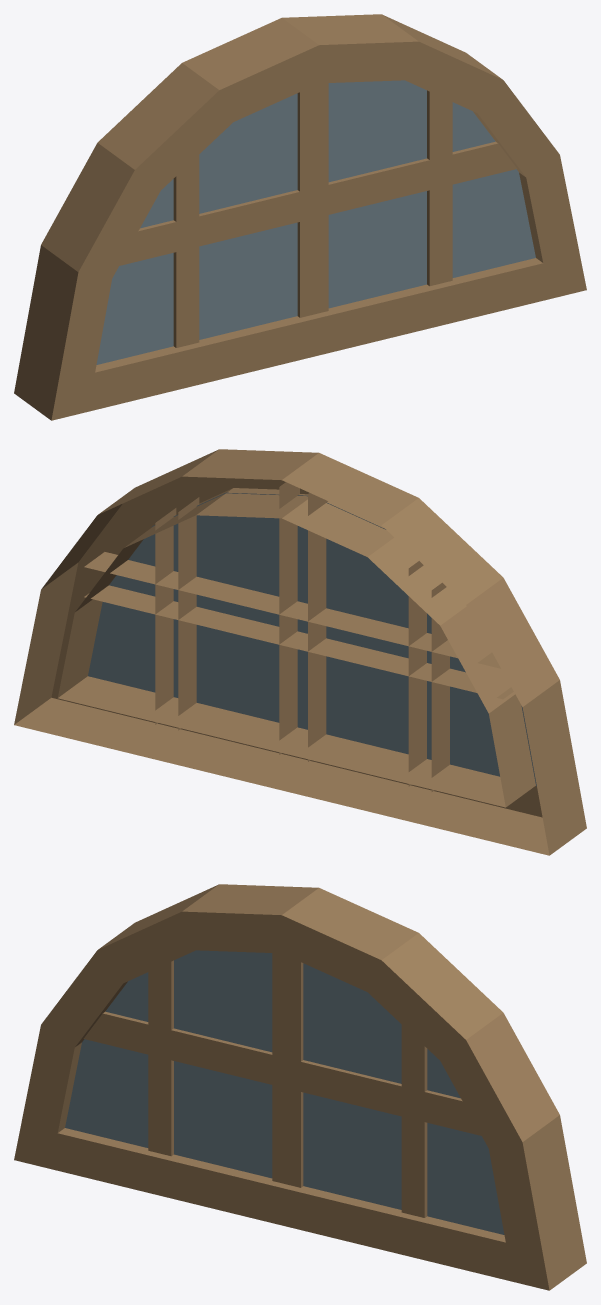
Rendered from House_Window_04.fbx.
The picture shows the model from 3 angles, top to bottom: view 1: azimuth 30°, elevation 25°; view 2: azimuth 150°, elevation 25°; view 3: azimuth 330°, elevation 25°; orthographic projection.
Visible parts, largest first — view 1: pCube3384; view 2: pCube3384; view 3: pCube3384.
Boxes of the visible parts, x1,y1,x2,y2 form: pCube3384: [14, 14, 586, 420]; pCube3384: [14, 449, 586, 855]; pCube3384: [14, 884, 586, 1290].
Size of the model in its own units: 2.39 by 1.32 by 0.2894.
